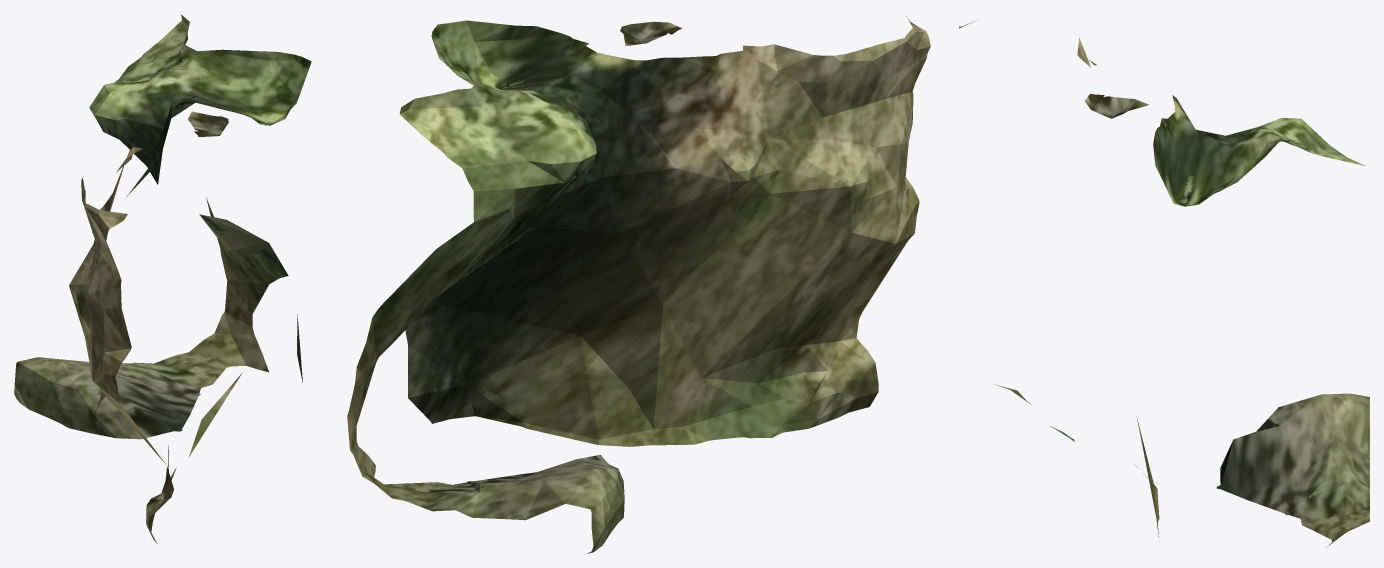
The picture shows the model from 3 angles, left to right: view 1: azimuth 30°, elevation 25°; view 2: azimuth 150°, elevation 25°; view 3: azimuth 270°, elevation 25°; orthographic projection. The views are drawn at different scales.
Bounding box in the file's own units: 2.86 × 2.95 × 2.95.
Materials: 4 (4 with a texture image).
